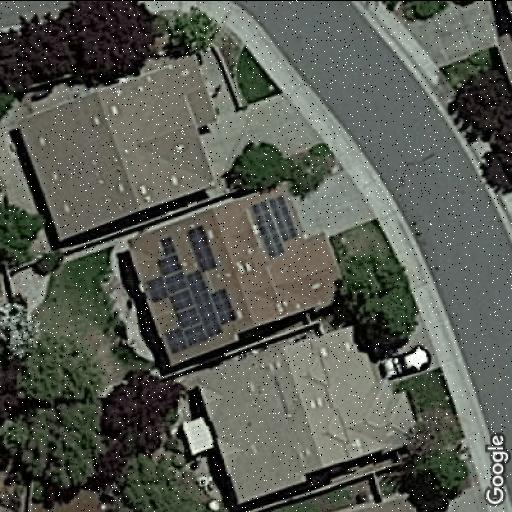solar-panel: (144, 223, 236, 355), (248, 192, 302, 260)
